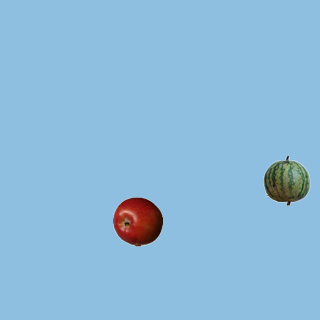Apple Braeburn: (112, 196, 162, 246)
Watermelon: (261, 155, 311, 205)
